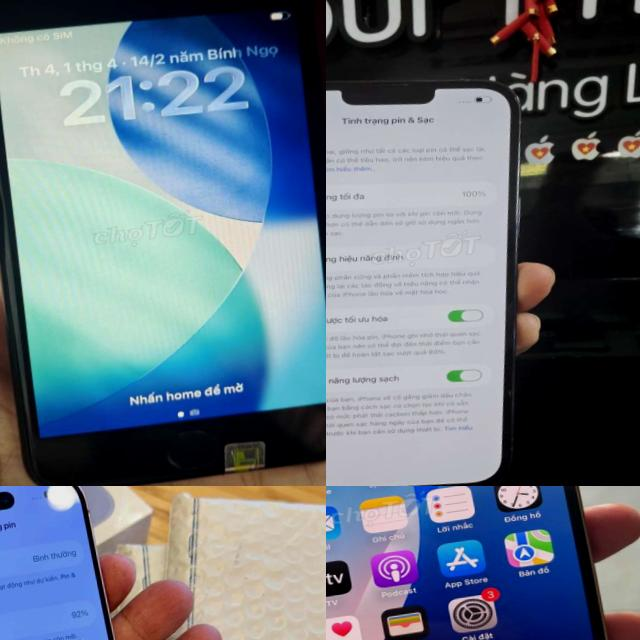gen_12_13: (326, 56, 563, 486), (326, 486, 633, 640)
gen_16: (0, 486, 179, 640)
scratch: (0, 0, 326, 486)
